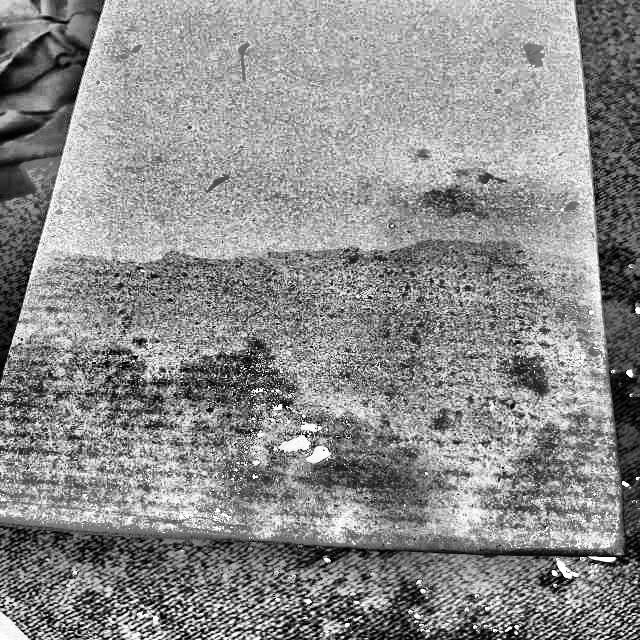box: (0, 0, 627, 556)
wet: (0, 199, 610, 527)
